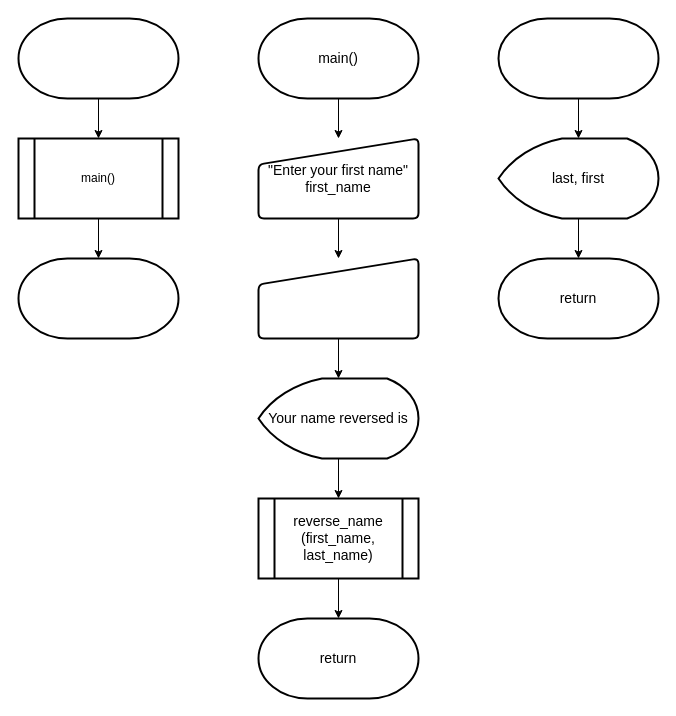
Image size: 676x716. Some labels were removed from this diagram. The shapes that lost their labels are listed below. From the top down, each one's centre as x and y in pixels, then its label:
point (98, 58): Start
point (578, 58): reverse_name (first, last)
point (98, 298): End
point (338, 298): "Enter your last name" last_name
